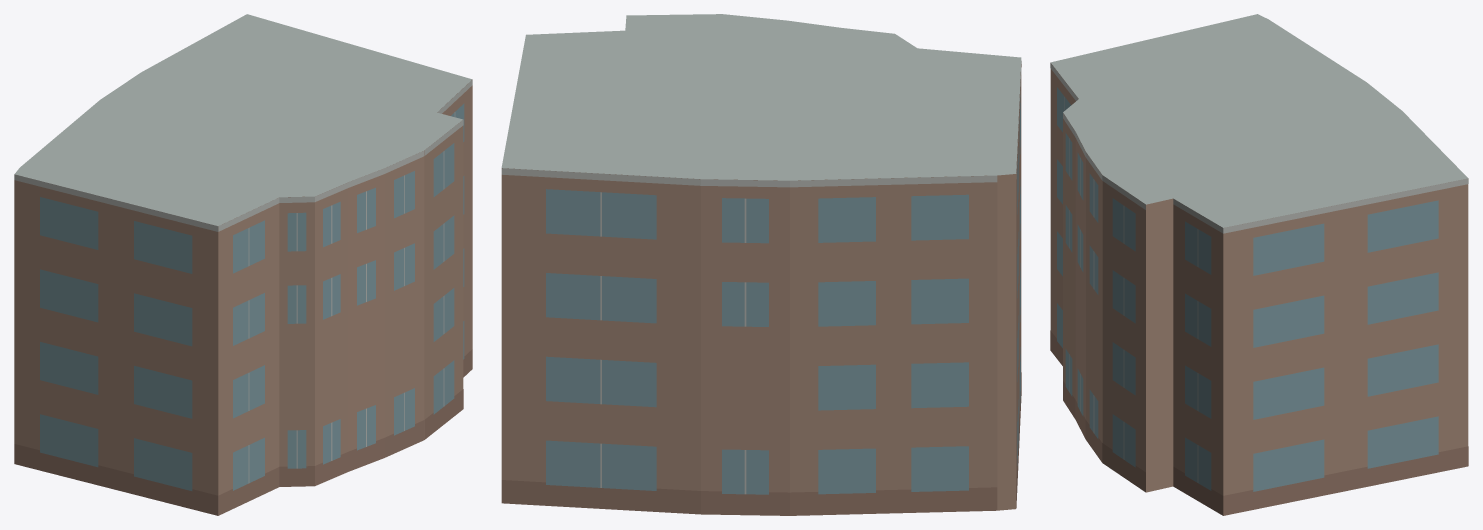
File: survey-upis-32947654.glb
3 renders of one model, left to right at view 1: azimuth 30°, elevation 25°; view 2: azimuth 150°, elevation 25°; view 3: azimuth 270°, elevation 25°, orthographic. The views are drawn at different scales.
Parts seen in each view (by area): view 1: survey-upis-32947654.tmp; view 2: survey-upis-32947654.tmp; view 3: survey-upis-32947654.tmp.
Boxes of the visible parts, x1,y1,x2,y2 form: survey-upis-32947654.tmp: [14, 14, 472, 515]; survey-upis-32947654.tmp: [501, 14, 1021, 515]; survey-upis-32947654.tmp: [1050, 14, 1468, 515].
Size of the model in its own units: 19.45 by 12.2 by 16.06.
